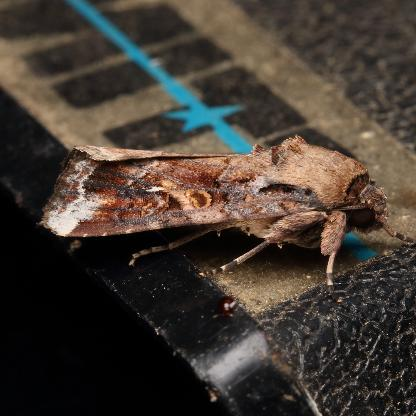Fall Armyworm Moth: (36, 129, 416, 296)
